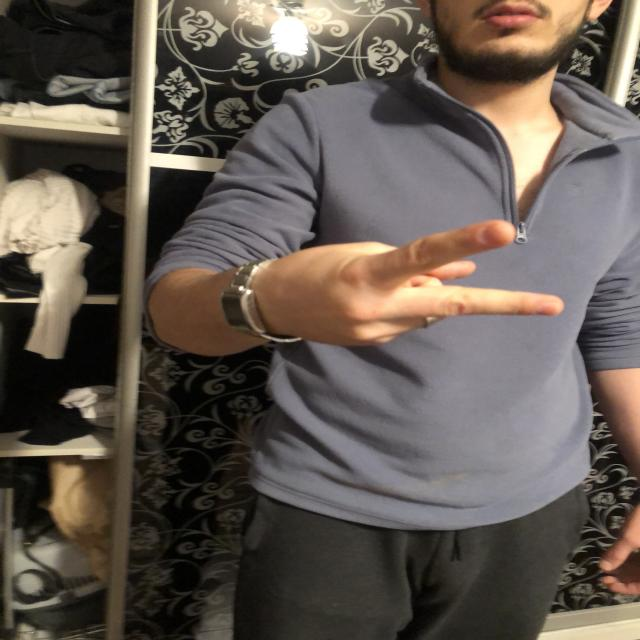scissors: (304, 224, 561, 338)
